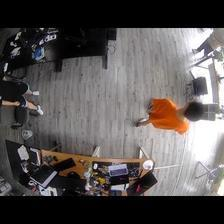normal: (135, 97, 201, 135), (1, 76, 45, 116)
